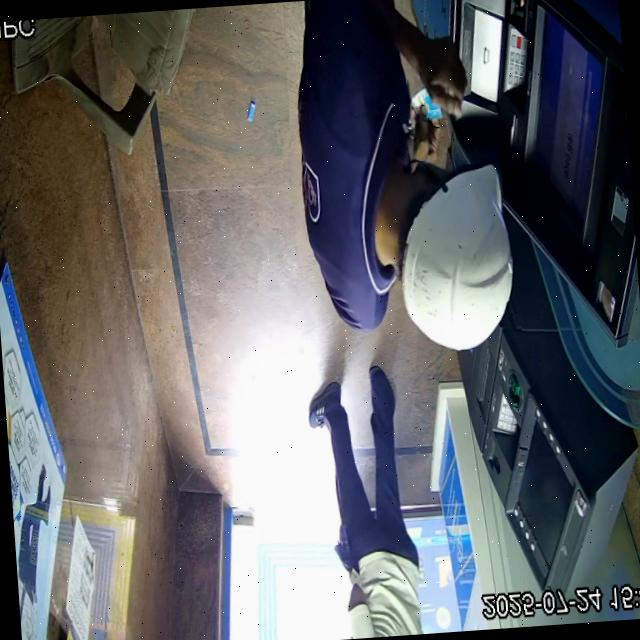helmet: (373, 162, 512, 352)
